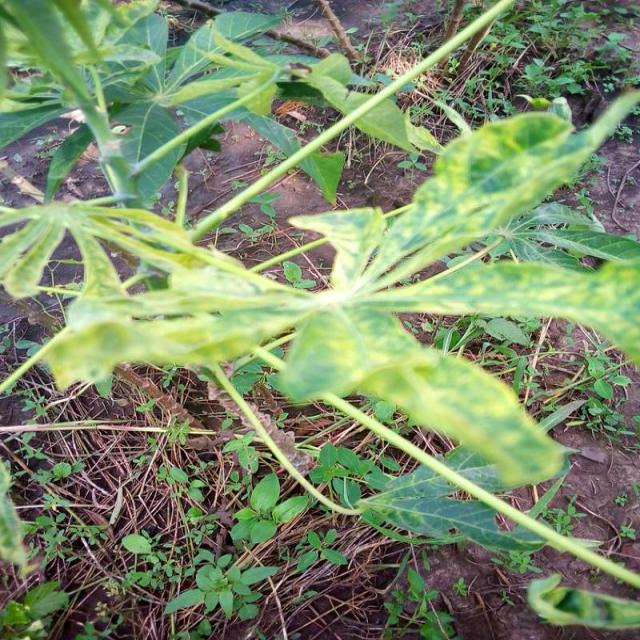cassava leaf: (3, 85, 639, 497)
